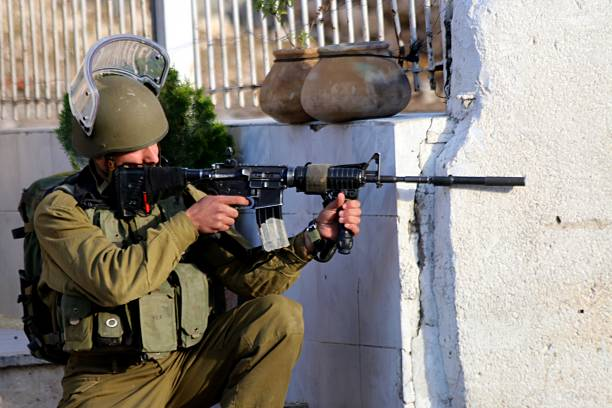rifle: (107, 156, 541, 265)
